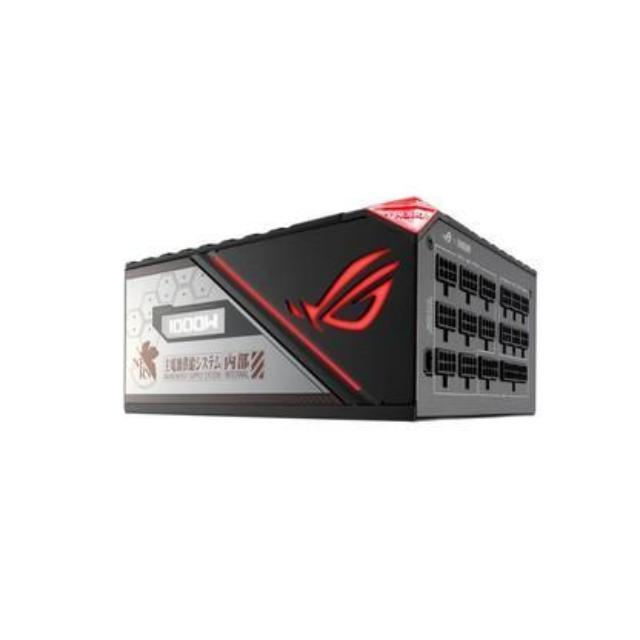PSU: (111, 189, 551, 426)
